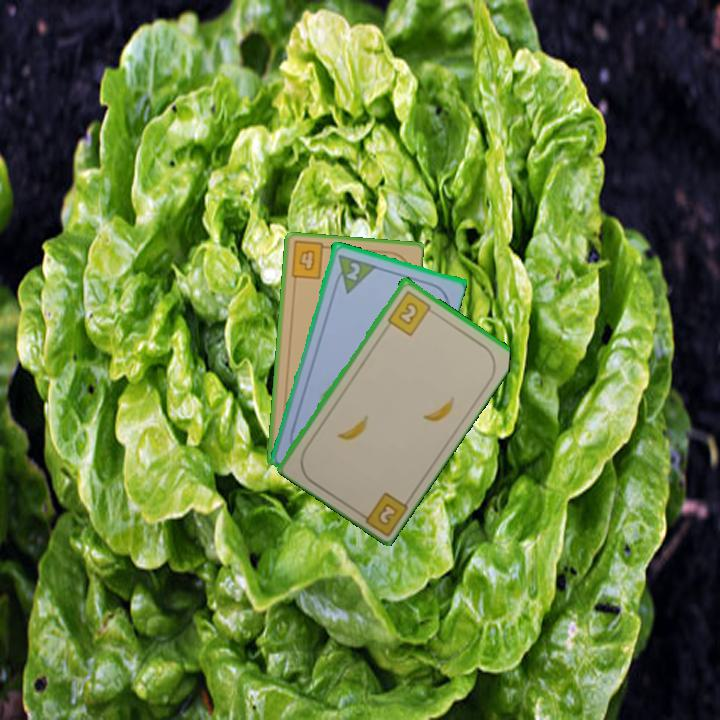2b: (353, 488, 411, 537), (384, 287, 438, 338)
2p: (330, 250, 377, 296)
4b: (288, 239, 333, 283)
